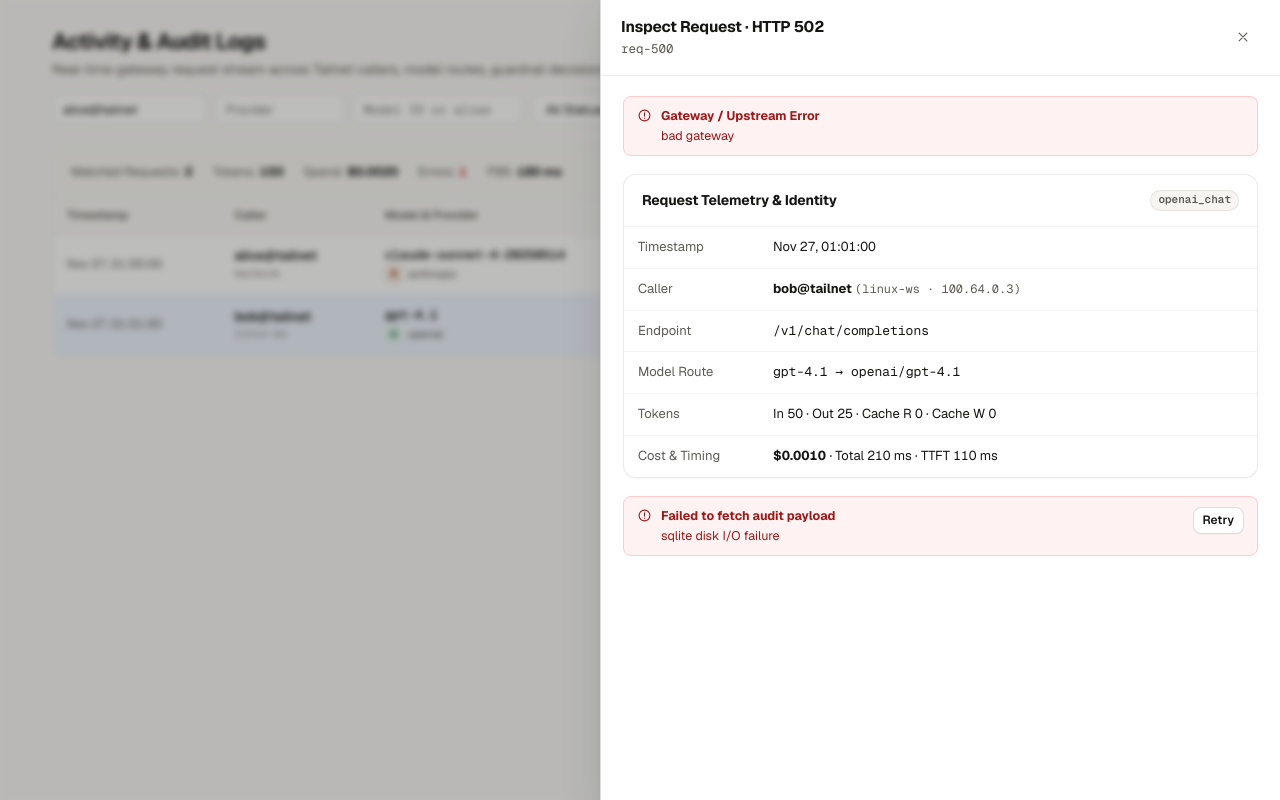
Test case: Aperture views, collapsed sidebar accordion, confirmations, and API alignment › distinguishes 404 vs 500 payloads, displays accurate SQLite storage copy, and resets timePreset on focus
Earlier steps of the test are not shown.
Check: the text "Failed to fetch audit payload" is shown, box [661,507,835,524]
Check: the text "sqlite disk I/O failure" is shown, box [661,527,780,544]
Step 1. Click the button named "Close" → {"x": 1243, "y": 37}, box [1226,23,1260,51]
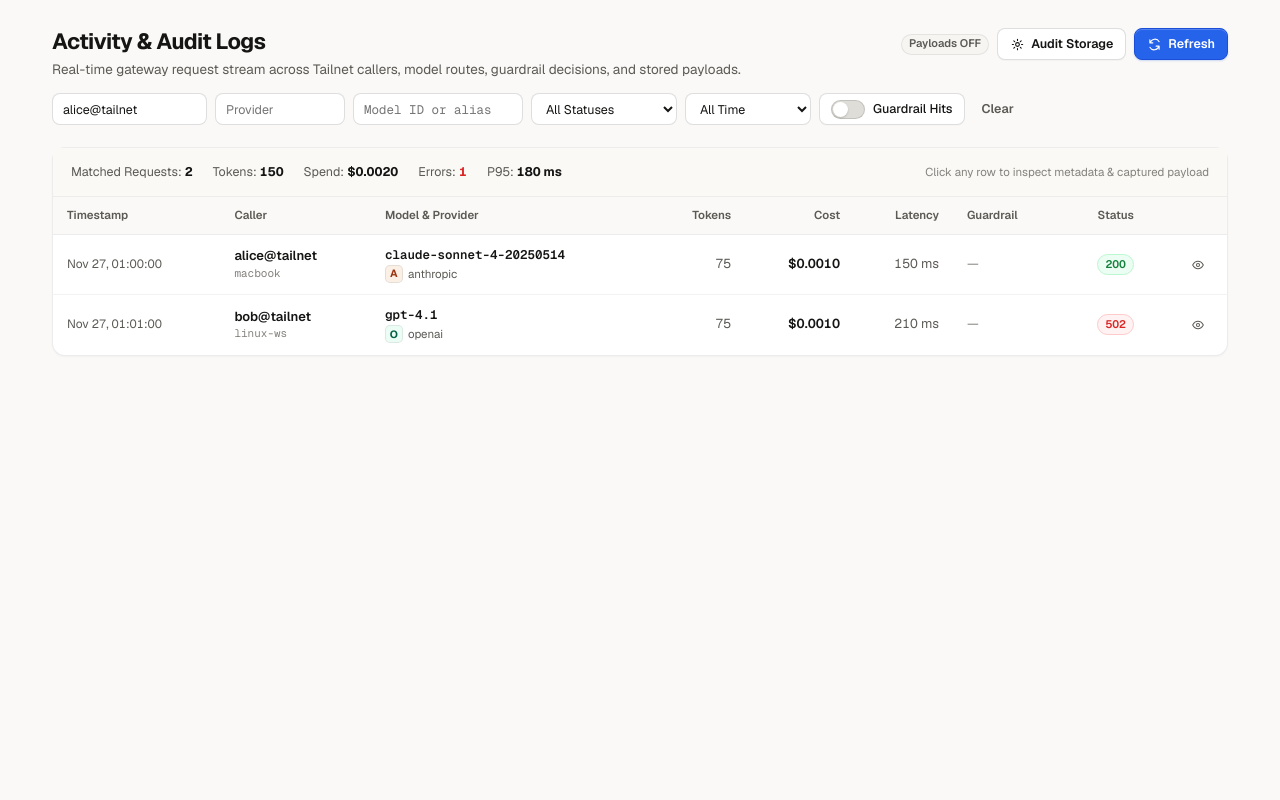
Step 2. Click the button "Audit Storage" → {"x": 1062, "y": 44}, box [997,28,1126,60]
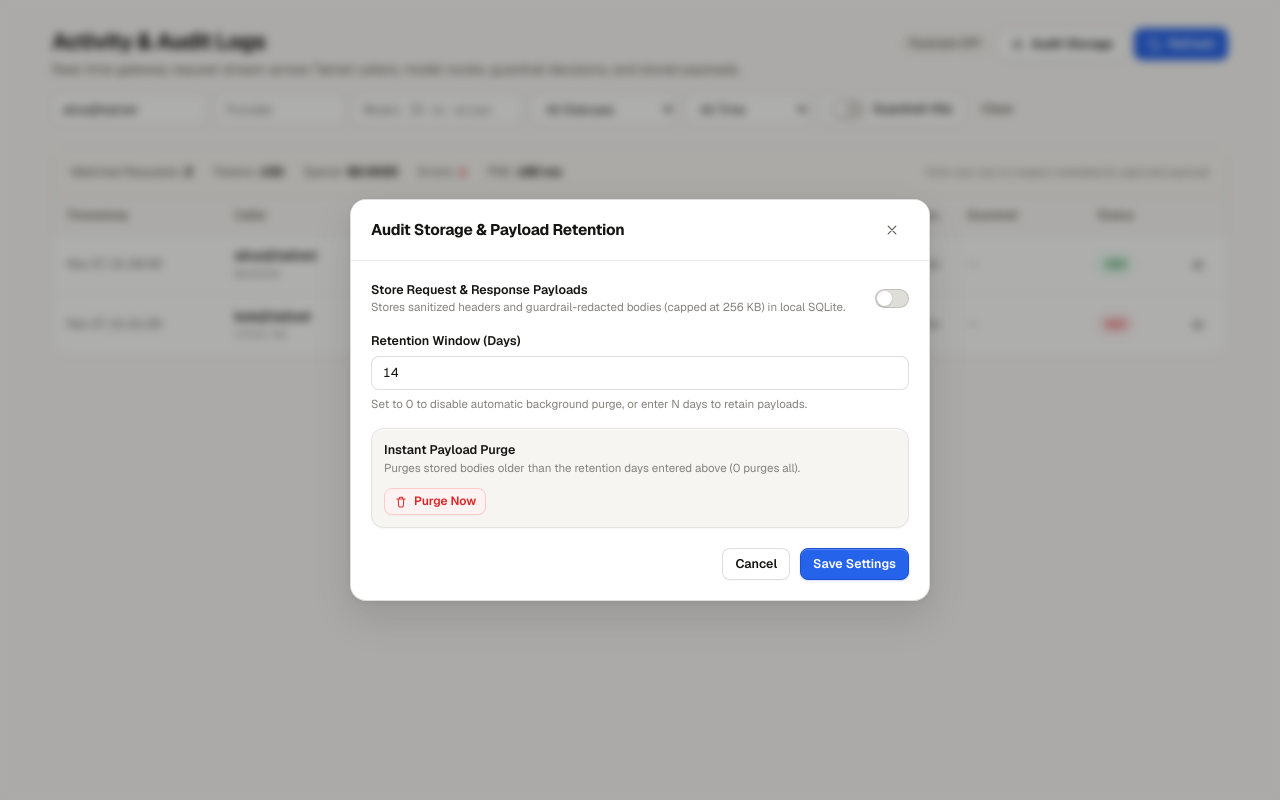
Check: the text "Stores sanitized headers and guardrail-redacted bodies (capped at 256 KB) in local SQLite." is shown, box [371,299,845,314]
Step 3. Replace the text in the number field labelled "Retention Window" with "7" → {"x": 640, "y": 373}, box [371,356,909,390]
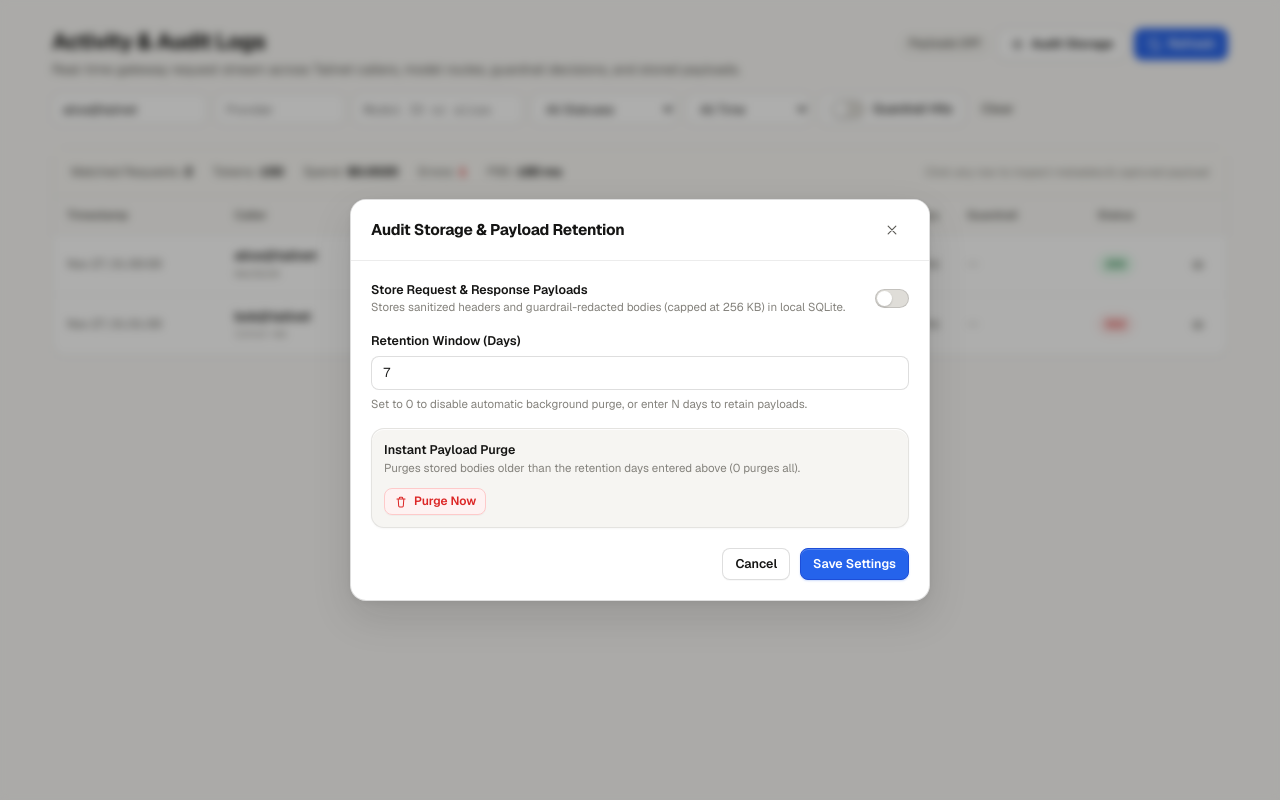
Step 4. Click the button "Purge Now" → {"x": 435, "y": 502}, box [384,488,486,515]
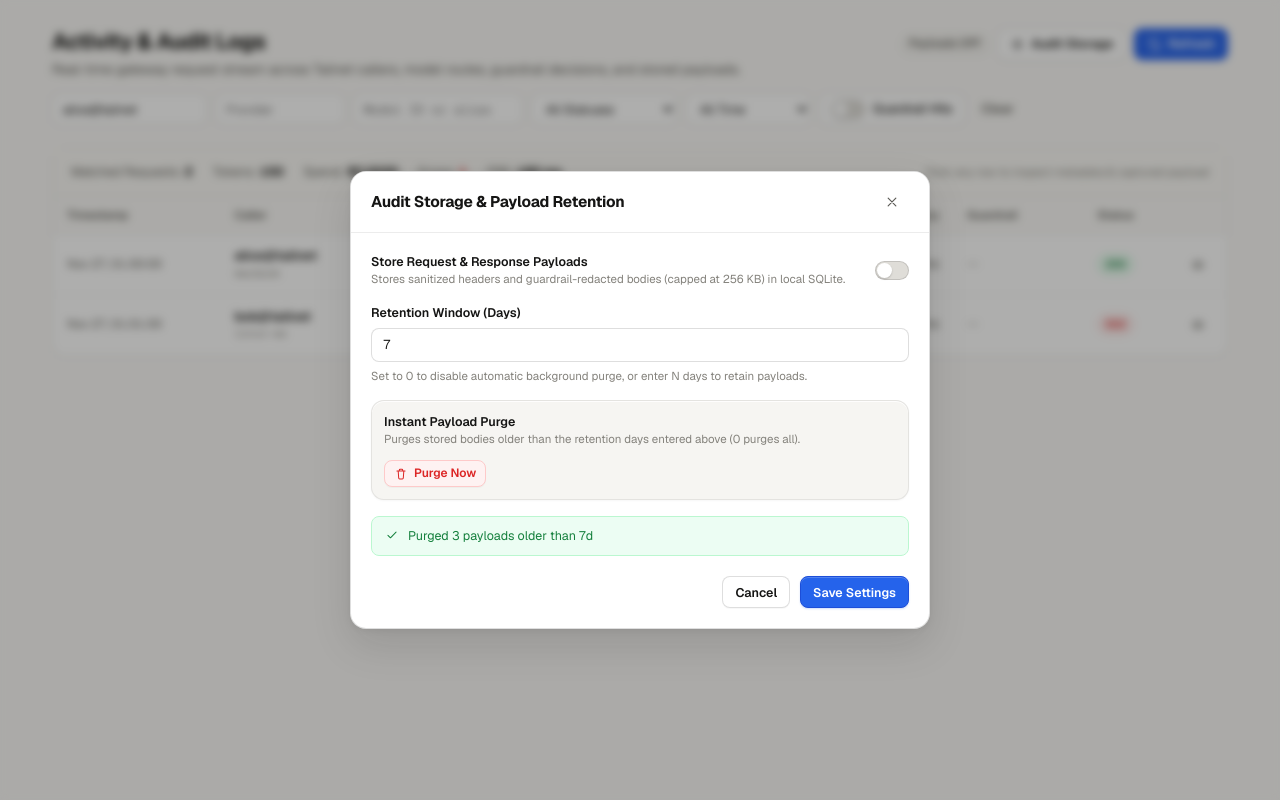
Check: the text "Purged 3 payloads older than 7d" is shown, box [408,527,593,545]
